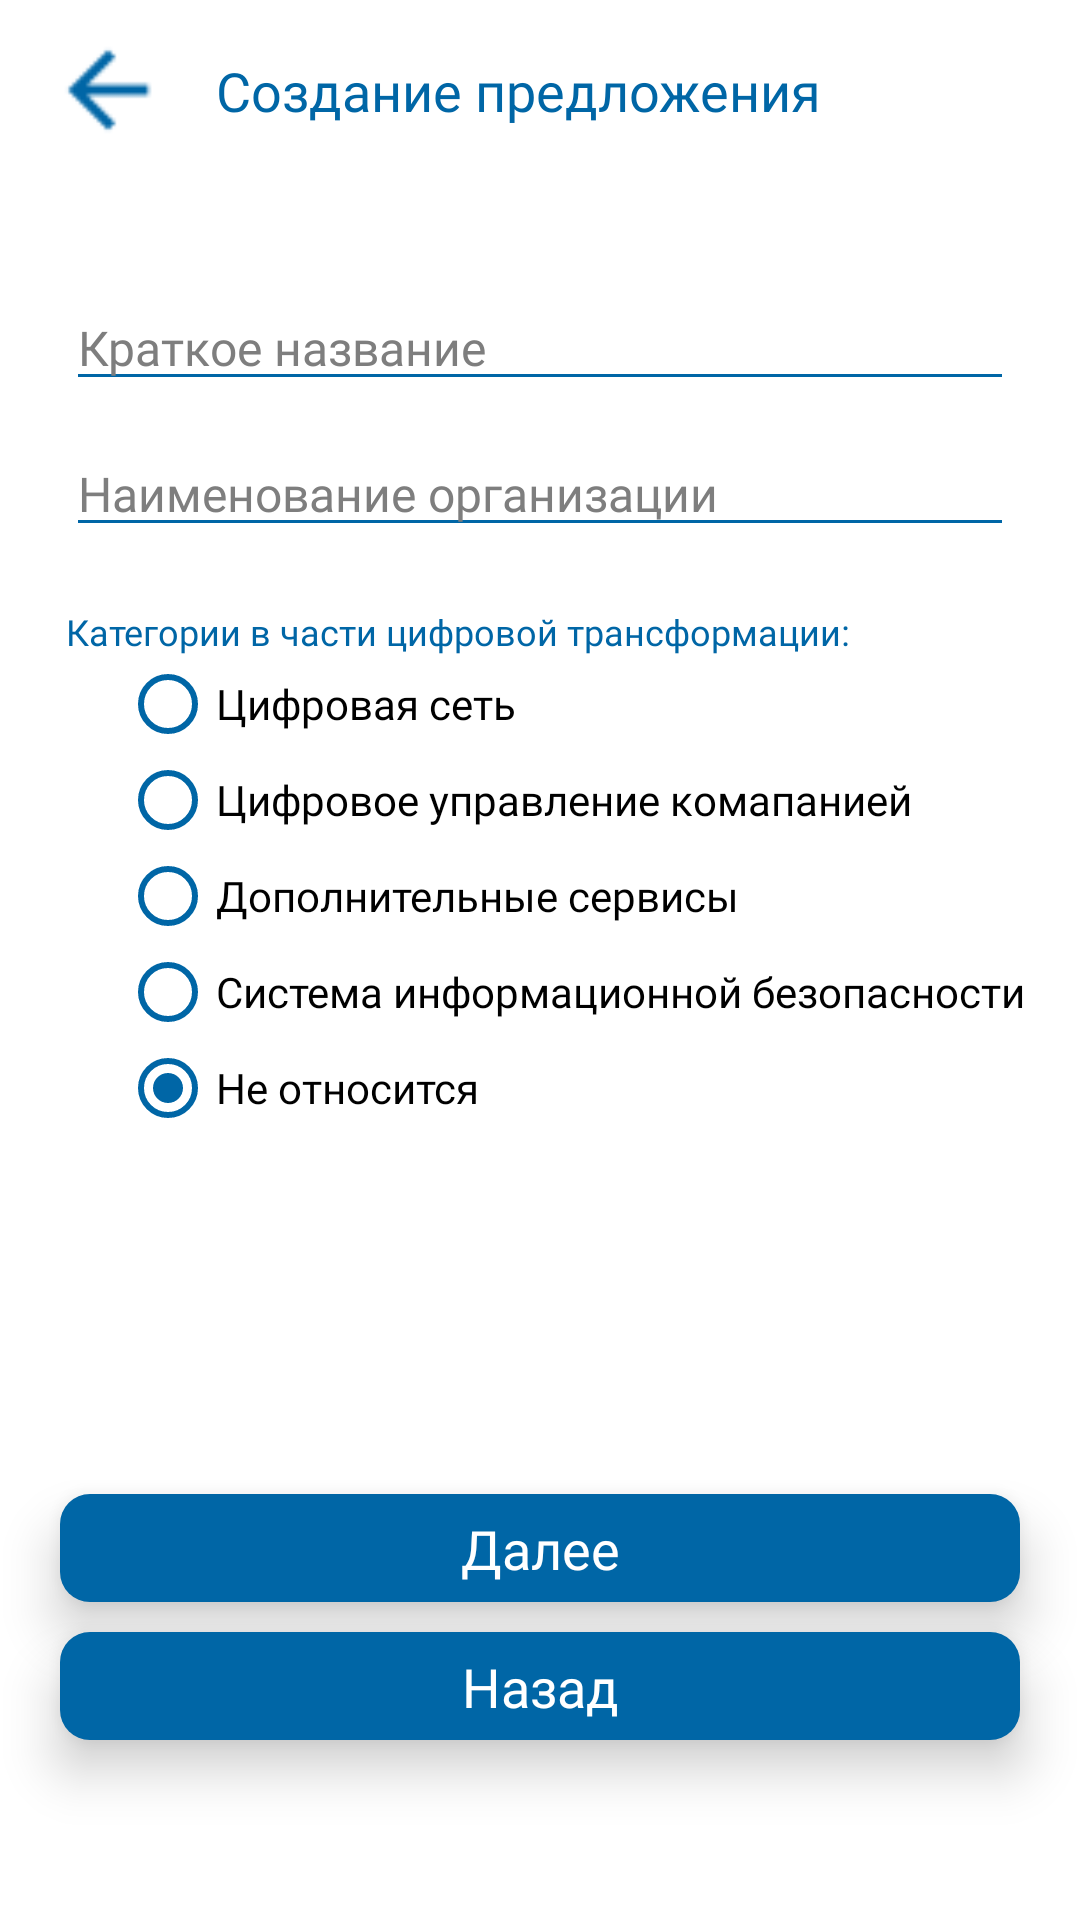

Point at icon controls on the screen. Image size 1080px x 1920px, points as (x,y).
arrow back: (109,90)
